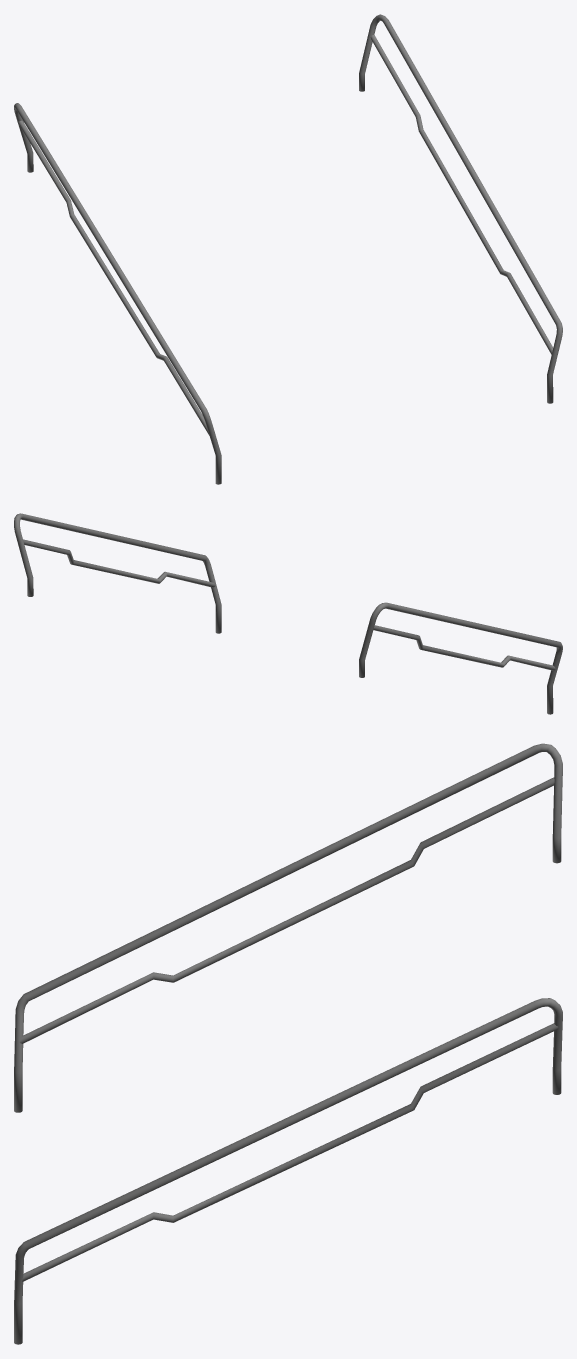
Rendered from q-scifi-mod-platform-rails-4wide.glb.
3 renders of one model, top to bottom at view 1: azimuth 30°, elevation 25°; view 2: azimuth 150°, elevation 25°; view 3: azimuth 270°, elevation 25°, orthographic. The views are drawn at different scales.
Parts seen in each view (by area): view 1: Platform_Rails_4Wide; view 2: Platform_Rails_4Wide; view 3: Platform_Rails_4Wide.
Part boxes in pixels (left/top/right/bottom): Platform_Rails_4Wide: left=14, top=14, right=562, bottom=484; Platform_Rails_4Wide: left=14, top=513, right=562, bottom=714; Platform_Rails_4Wide: left=14, top=743, right=562, bottom=1344.
Bounding box in the file's own units: 4.25 × 2.72 × 3.8.
1 material, 1 textured.
